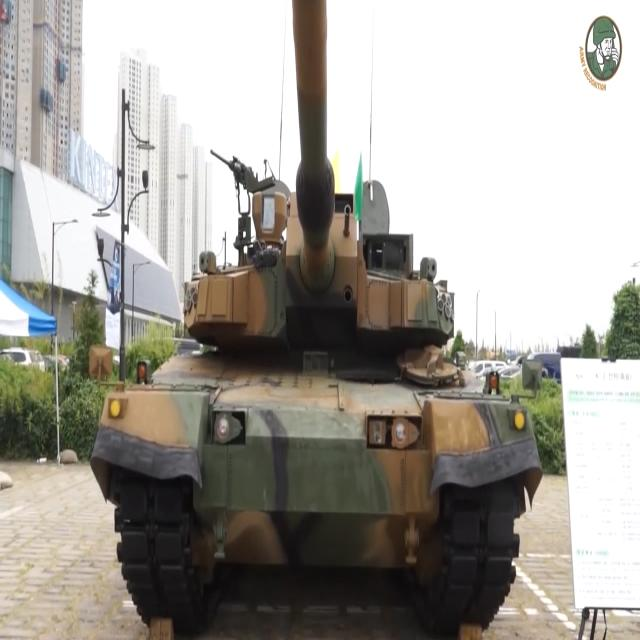korea tank: (88, 1, 546, 640)
